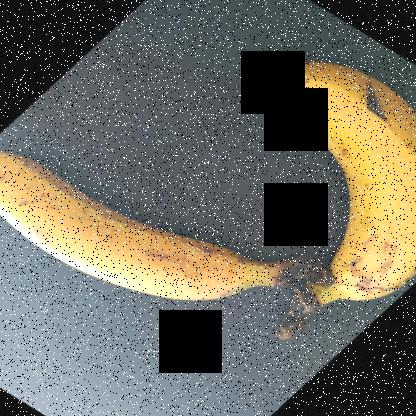ripe: (1, 151, 294, 336), (265, 58, 415, 299)
